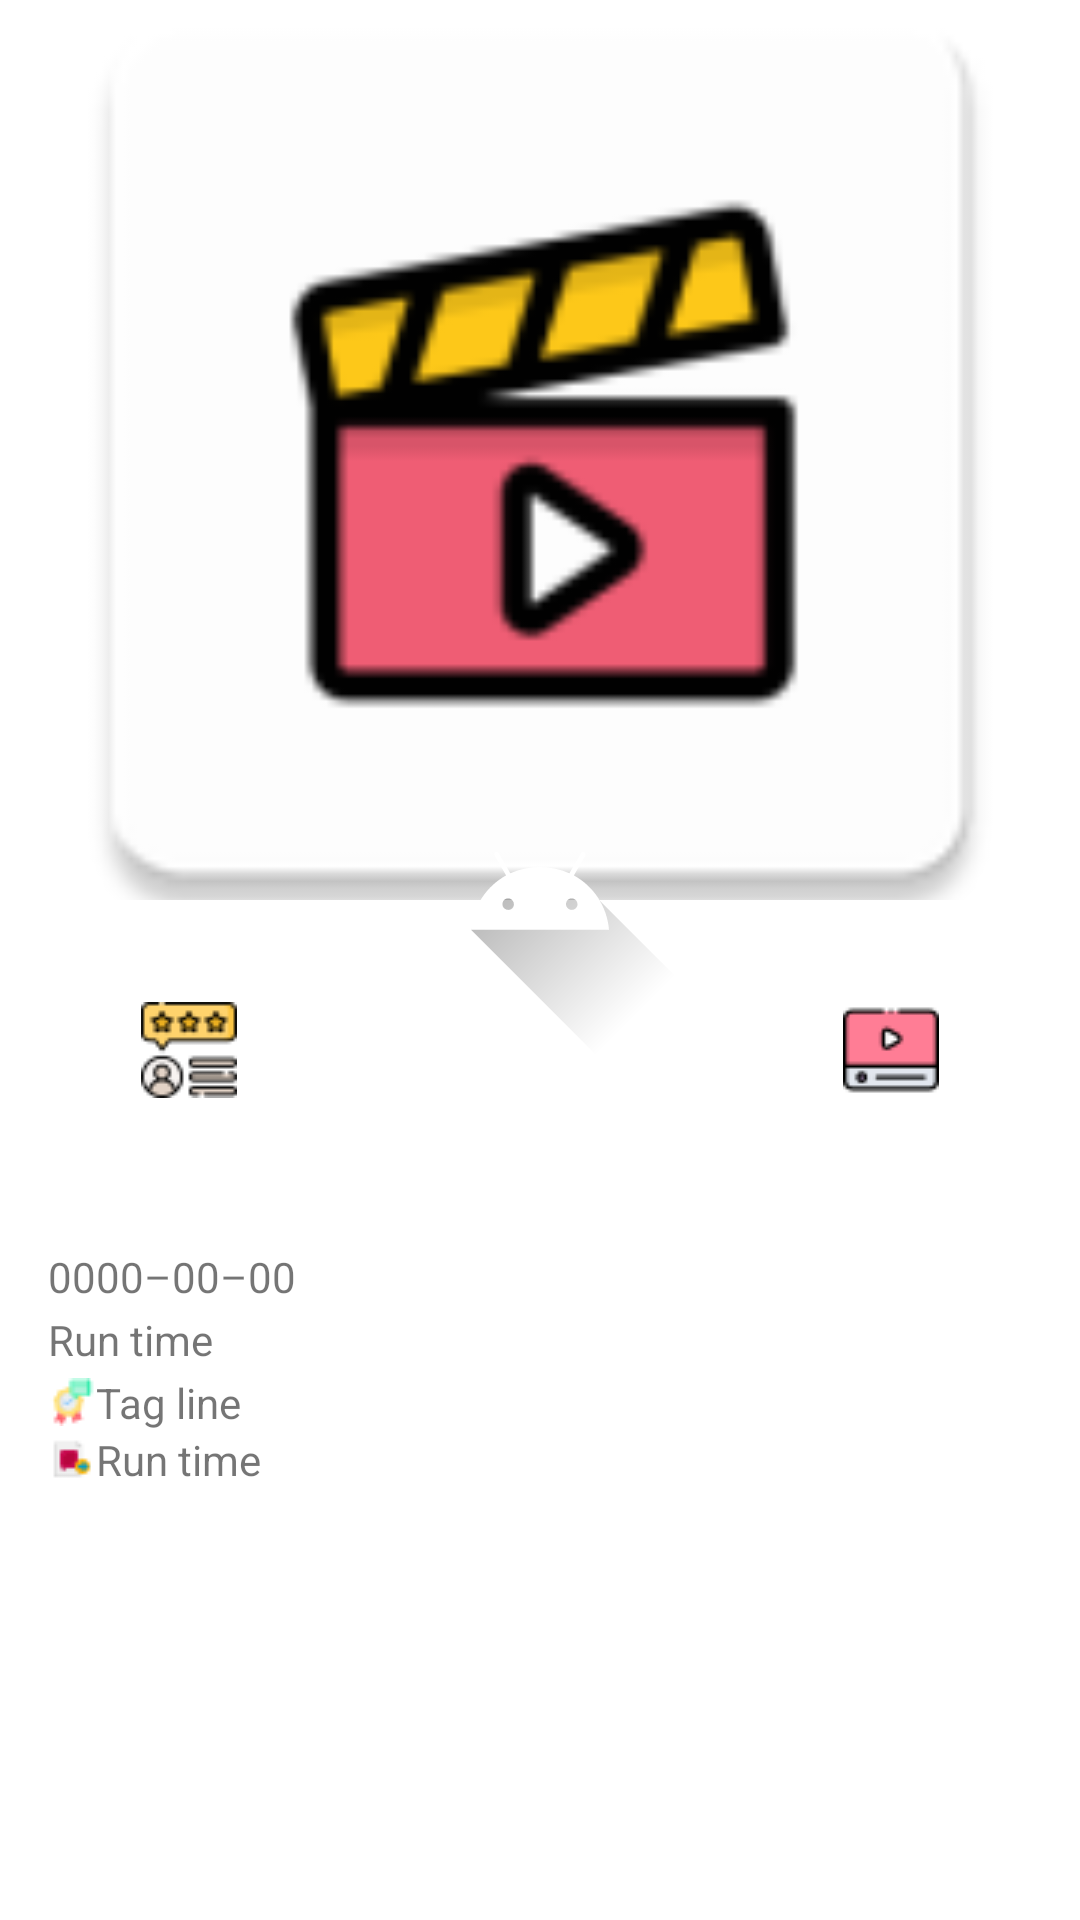

Point at icon controls on the screen. Image size 1080px x 1920px, points as point (x, y).
reviews: point (189, 1050)
trailer: point (891, 1050)
